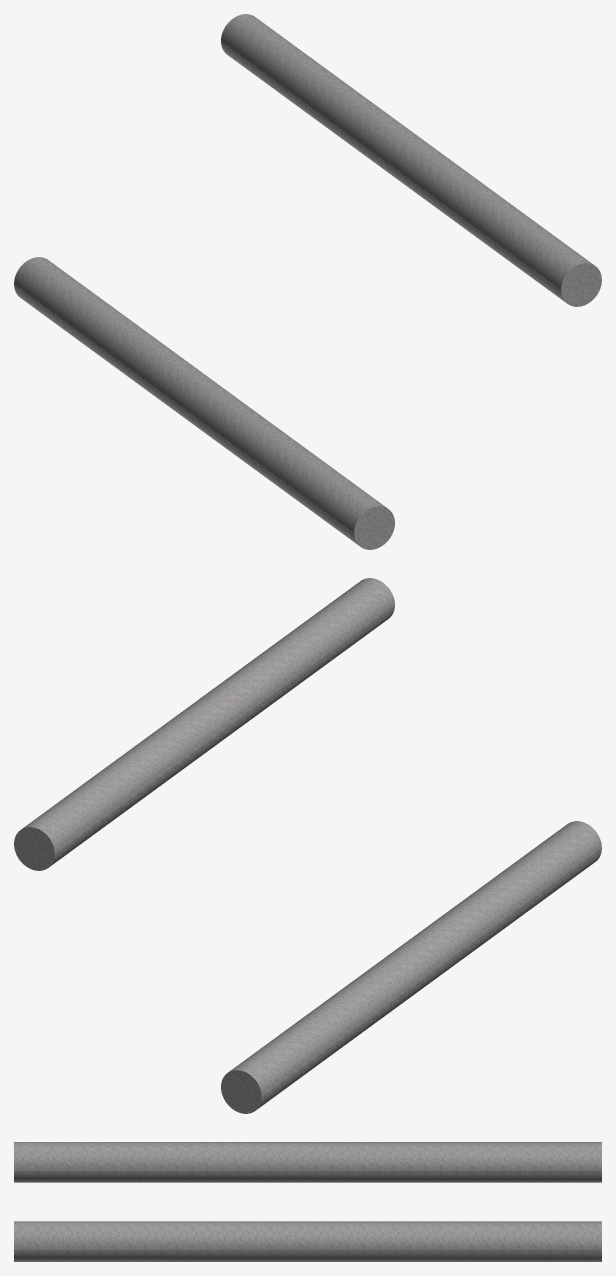
3 views of the same model, one above another, from view 1: azimuth 30°, elevation 25°; view 2: azimuth 150°, elevation 25°; view 3: azimuth 270°, elevation 25° (orthographic). The views are drawn at different scales.
Visible parts, largest first — view 1: 0_1_3_3_1_3_0; view 2: 0_1_3_3_1_3_0; view 3: 0_1_3_3_1_3_0.
Boxes of the visible parts, left/top/right/bottom form: 0_1_3_3_1_3_0: left=14, top=14, right=601, bottom=549; 0_1_3_3_1_3_0: left=14, top=578, right=601, bottom=1113; 0_1_3_3_1_3_0: left=14, top=1142, right=601, bottom=1261.
Size of the model in its own units: 4.85 by 4.4 by 11.53.
2 materials, 2 textured.
